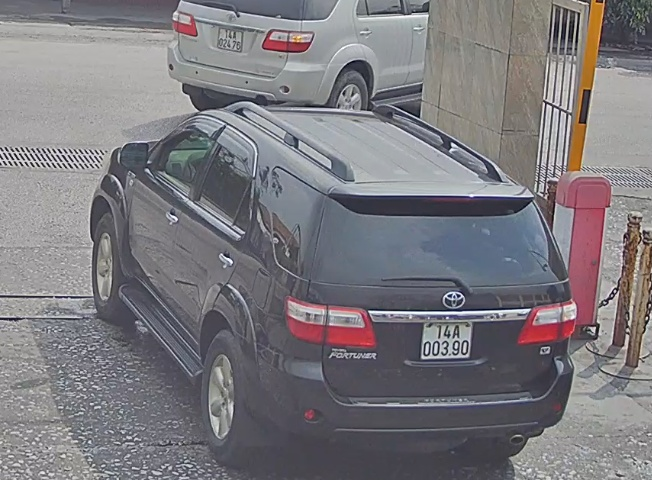vehicle plate: (420, 318, 476, 366)
